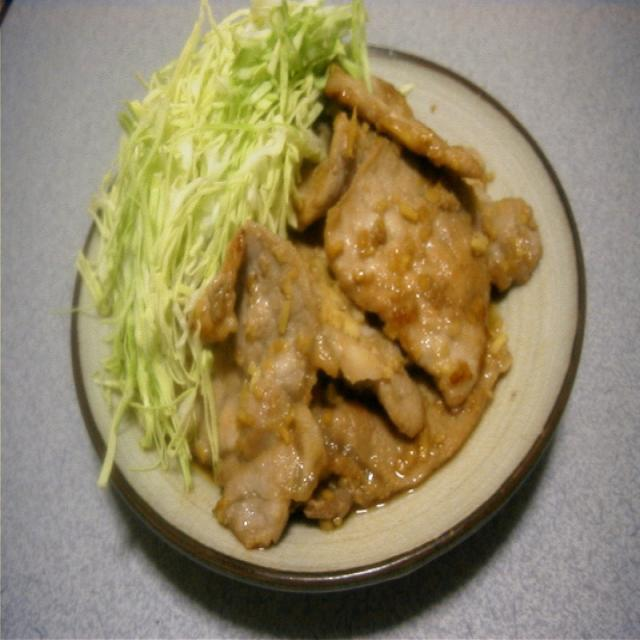猪肉菜式: (193, 68, 524, 556)
